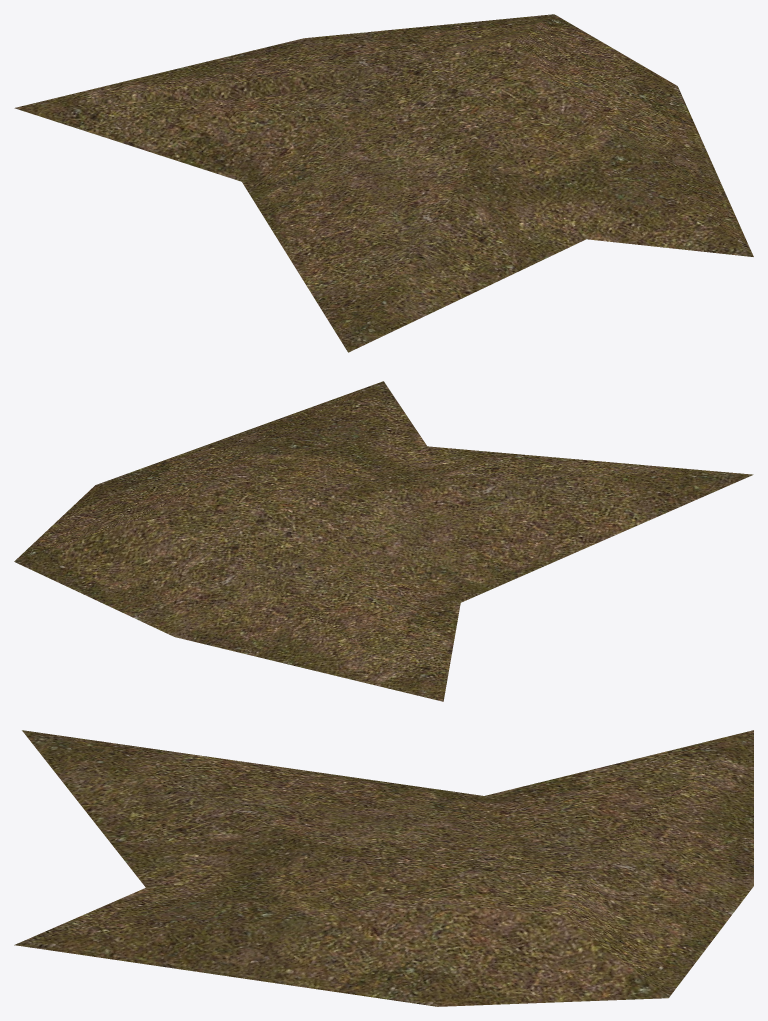
Rendered from tower-station-dirt-art.glb.
3 views of the same model, one above another, from view 1: azimuth 30°, elevation 25°; view 2: azimuth 150°, elevation 25°; view 3: azimuth 270°, elevation 25° (orthographic). The views are drawn at different scales.
Visible parts, largest first — view 1: TowerStation_Dirt_Art; view 2: TowerStation_Dirt_Art; view 3: TowerStation_Dirt_Art.
Part boxes in pixels (bbox=[...]): TowerStation_Dirt_Art: bbox=[14, 14, 753, 352]; TowerStation_Dirt_Art: bbox=[14, 381, 753, 701]; TowerStation_Dirt_Art: bbox=[14, 730, 753, 1006].
Bounding box in the file's own units: 6.85 × 0.5341 × 7.72.
1 material, 1 textured.
